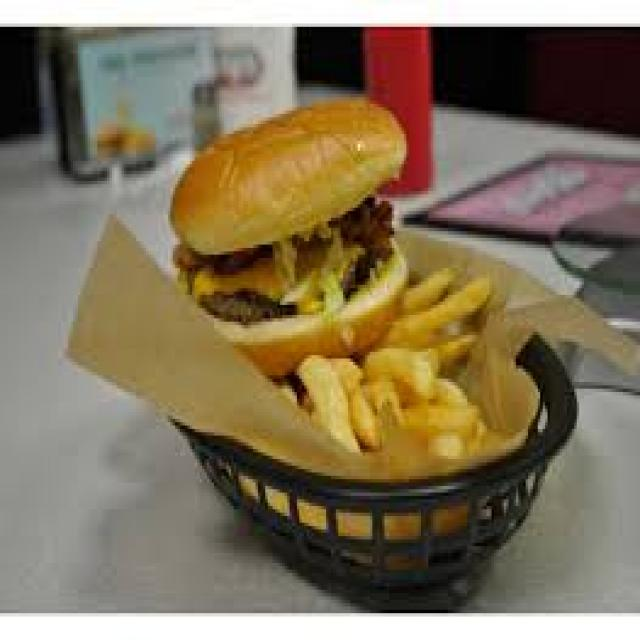Burger: (160, 90, 407, 366)
French Fries: (275, 268, 501, 473)
